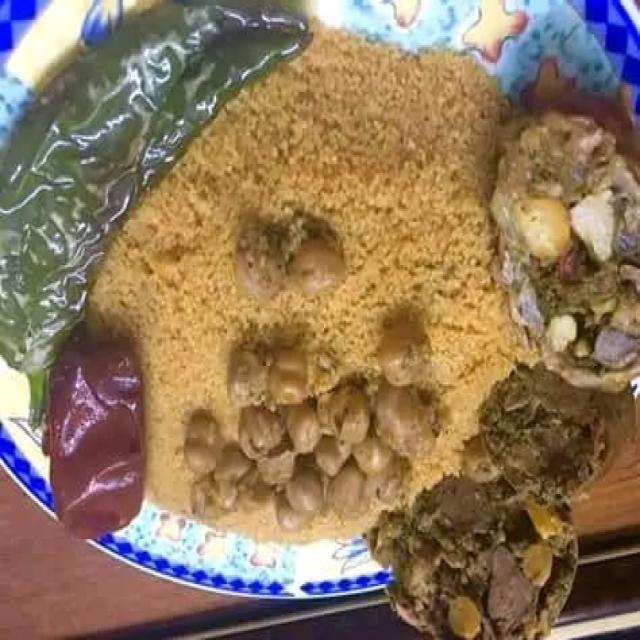Couscous: (100, 60, 507, 545)
